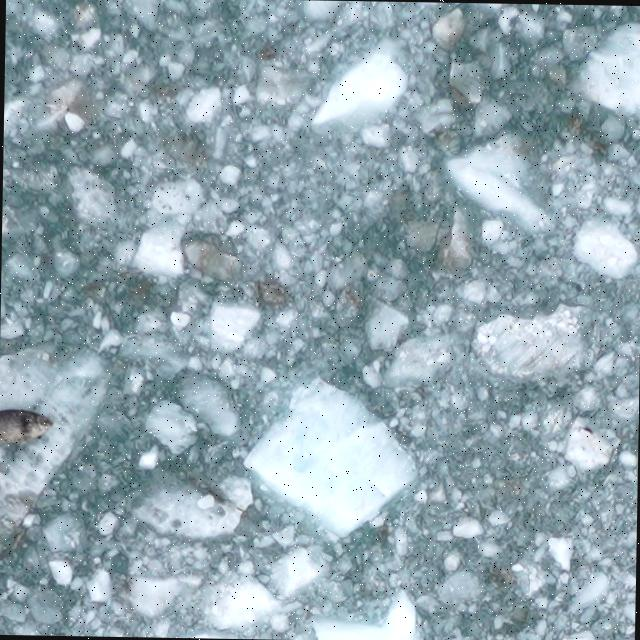seal: (0, 404, 55, 446)
